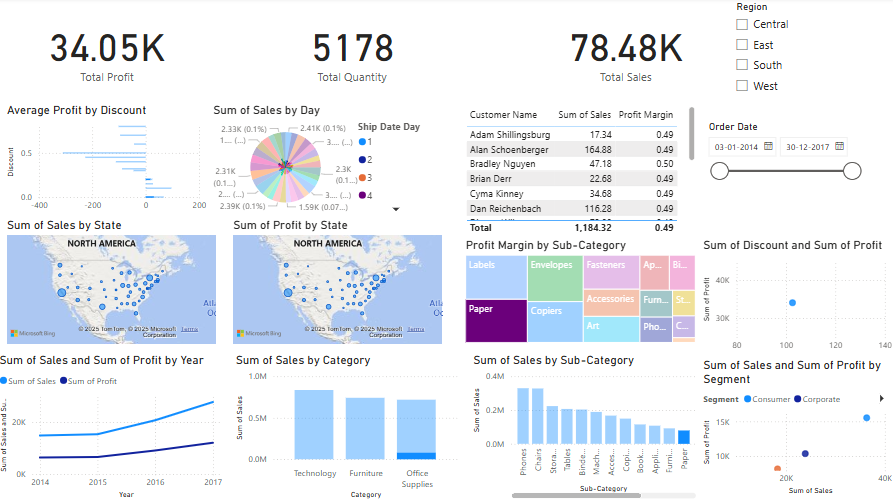

Layout of this report page (visuals, bound fields, positions):
{"tool":"powerbi","page":{"name":"Super store Dashboard","canvas":[1280,720],"ordinal":0},"visuals":[{"type":"card","fields":{"Values":["super store.Total Profit"]},"box":[39.2,14.2,238.5,122.8],"z":0},{"type":"card","fields":{"Values":["super store.Total Quantity"]},"box":[388,14.2,238.5,122.8],"z":1},{"type":"card","fields":{"Values":["super store.Total Sales"]},"box":[777.8,14.2,238.5,122.8],"z":2},{"type":"lineChart","fields":{"Y":["super store.Sales","super store.Profit"],"Category":["super store.Order Date.Variation.Date Hierarchy.Year","super store.Order Date.Variation.Date Hierarchy.Quarter","super store.Order Date.Variation.Date Hierarchy.Month","super store.Order Date.Variation.Date Hierarchy.Day"]},"box":[0,507.7,327.1,211.9],"z":3},{"type":"clusteredColumnChart","fields":{"Category":["super store.Sub-Category"],"Y":["super store.Sales"]},"box":[674.1,507.7,327.1,211.9],"z":4},{"type":"clusteredColumnChart","fields":{"Y":["super store.Sales"],"Category":["super store.Category"]},"box":[337.1,507.7,327.1,211.9],"z":5},{"type":"map","fields":{"Category":["super store.State"],"Size":["super store.Sales"]},"box":[10,314.3,307.2,183.5],"z":6},{"type":"map","fields":{"Category":["super store.State"],"Size":["super store.Profit"]},"box":[332.8,315.7,307.2,183.5],"z":7},{"type":"slicer","fields":{"Values":["super store.Region"]},"box":[1041.1,0,238.9,150.8],"z":8},{"type":"slicer","fields":{"Values":["super store.Order Date"]},"box":[1002,170.9,238.5,151.3],"z":9},{"type":"treemap","fields":{"Group":["super store.Sub-Category"],"Values":["super store.Profit Margin"]},"box":[664.2,344.2,337.1,153.6],"z":10},{"type":"scatterChart","fields":{"X":["super store.Sales"],"Y":["super store.Profit"],"Series":["super store.Segment"]},"box":[1001.2,514.8,278.8,199.1],"z":11},{"type":"scatterChart","fields":{"X":["super store.Discount"],"Y":["super store.Profit"]},"box":[1001.2,344.2,278.8,170.7],"z":12},{"type":"clusteredBarChart","fields":{"Y":["super store.Average Profit"],"Category":["super store.Discount"]},"box":[10.7,151.3,293.7,163.7],"z":13},{"type":"pieChart","fields":{"Y":["super store.Sales"],"Category":["super store.Ship Date.Variation.Date Hierarchy.Year","super store.Ship Date.Variation.Date Hierarchy.Quarter","super store.Ship Date.Variation.Date Hierarchy.Month","super store.Ship Date.Variation.Date Hierarchy.Day"]},"box":[304.3,151.3,322.1,163.7],"z":14},{"type":"tableEx","fields":{"Values":["super store.Customer Name","super store.Sales","super store.Profit Margin"]},"box":[663.9,151.3,336.4,192.2],"z":15}]}

Visuals, with their boxes in screenshot pixels (x1, y1, x2, y2), scaled from the page's 1280x720 canvas onto the 893x500 screenshot:
card - super store.Total Profit: region(27, 10, 194, 95)
card - super store.Total Quantity: region(271, 10, 437, 95)
card - super store.Total Sales: region(543, 10, 709, 95)
lineChart - super store.Sales x super store.Profit: region(0, 353, 228, 499)
clusteredColumnChart - super store.Sub-Category x super store.Sales: region(470, 353, 698, 499)
clusteredColumnChart - super store.Sales x super store.Category: region(235, 353, 463, 499)
map - super store.State x super store.Sales: region(7, 218, 221, 346)
map - super store.State x super store.Profit: region(232, 219, 446, 347)
slicer - super store.Region: region(726, 0, 892, 105)
slicer - super store.Order Date: region(699, 119, 865, 224)
treemap - super store.Sub-Category x super store.Profit Margin: region(463, 239, 699, 346)
scatterChart - super store.Sales x super store.Profit: region(698, 357, 892, 496)
scatterChart - super store.Discount x super store.Profit: region(698, 239, 892, 358)
clusteredBarChart - super store.Average Profit x super store.Discount: region(7, 105, 212, 219)
pieChart - super store.Sales x super store.Ship Date.Variation.Date Hierarchy.Year: region(212, 105, 437, 219)
tableEx - super store.Customer Name x super store.Sales: region(463, 105, 698, 239)
